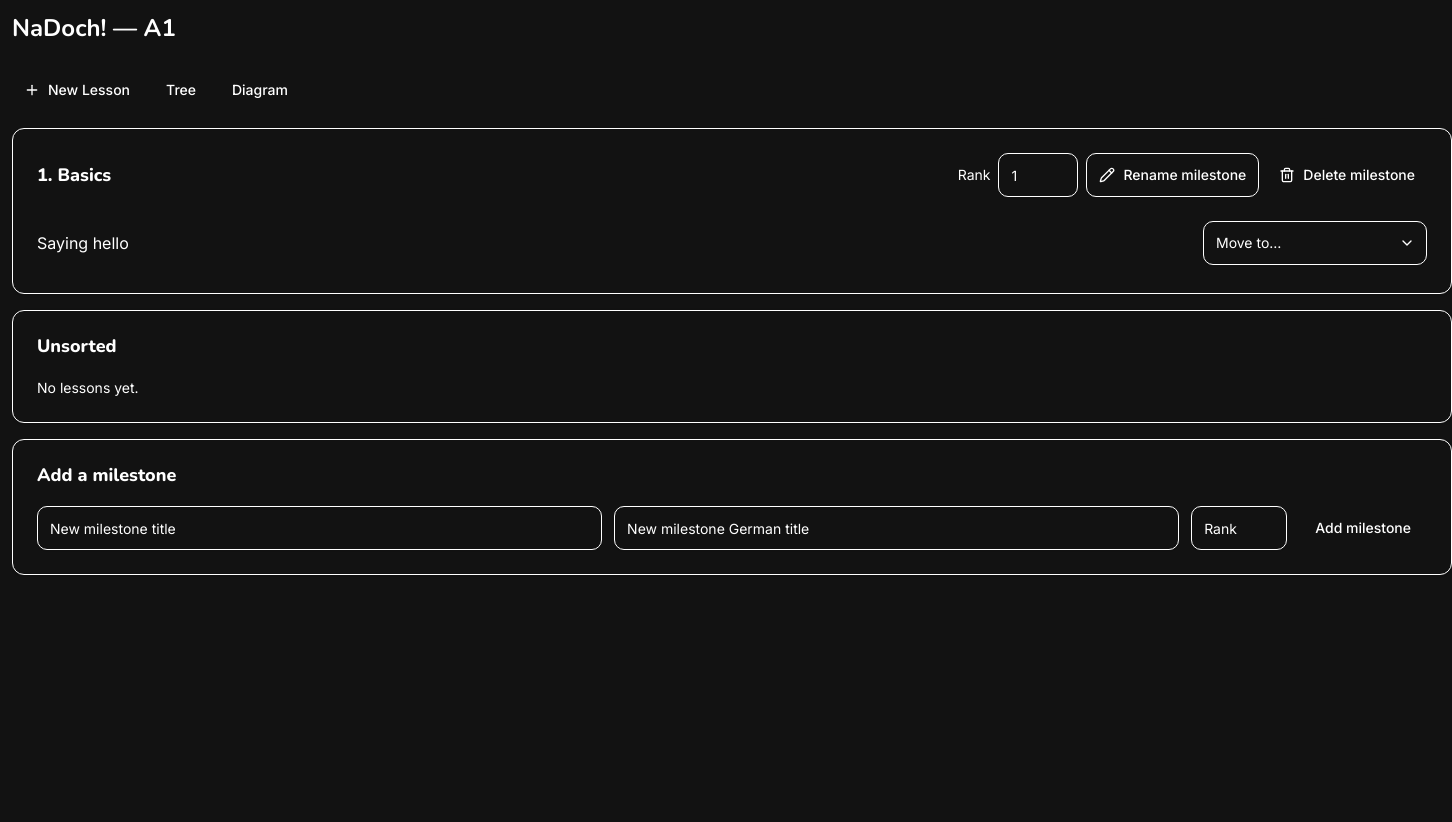
Test case: TrackLevelStructure › saves a rank change and shows a server refusal
Replace the text in the number field named "Rank of Basics" with "0". click: (1038, 175)
box: x1=998 y1=153 x2=1078 y2=197
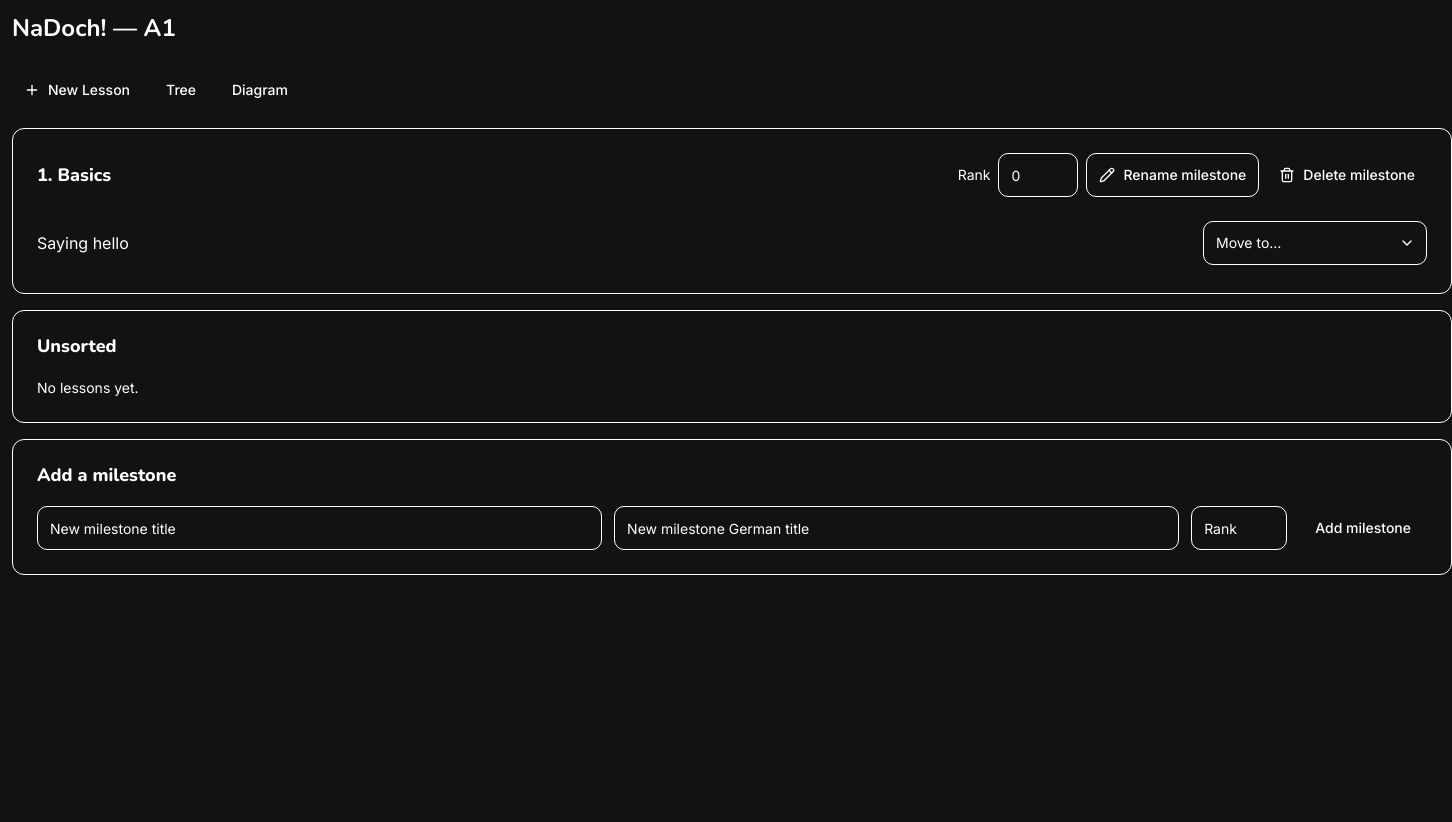
Leave the number field named "Rank of Basics", box x1=998 y1=153 x2=1078 y2=197
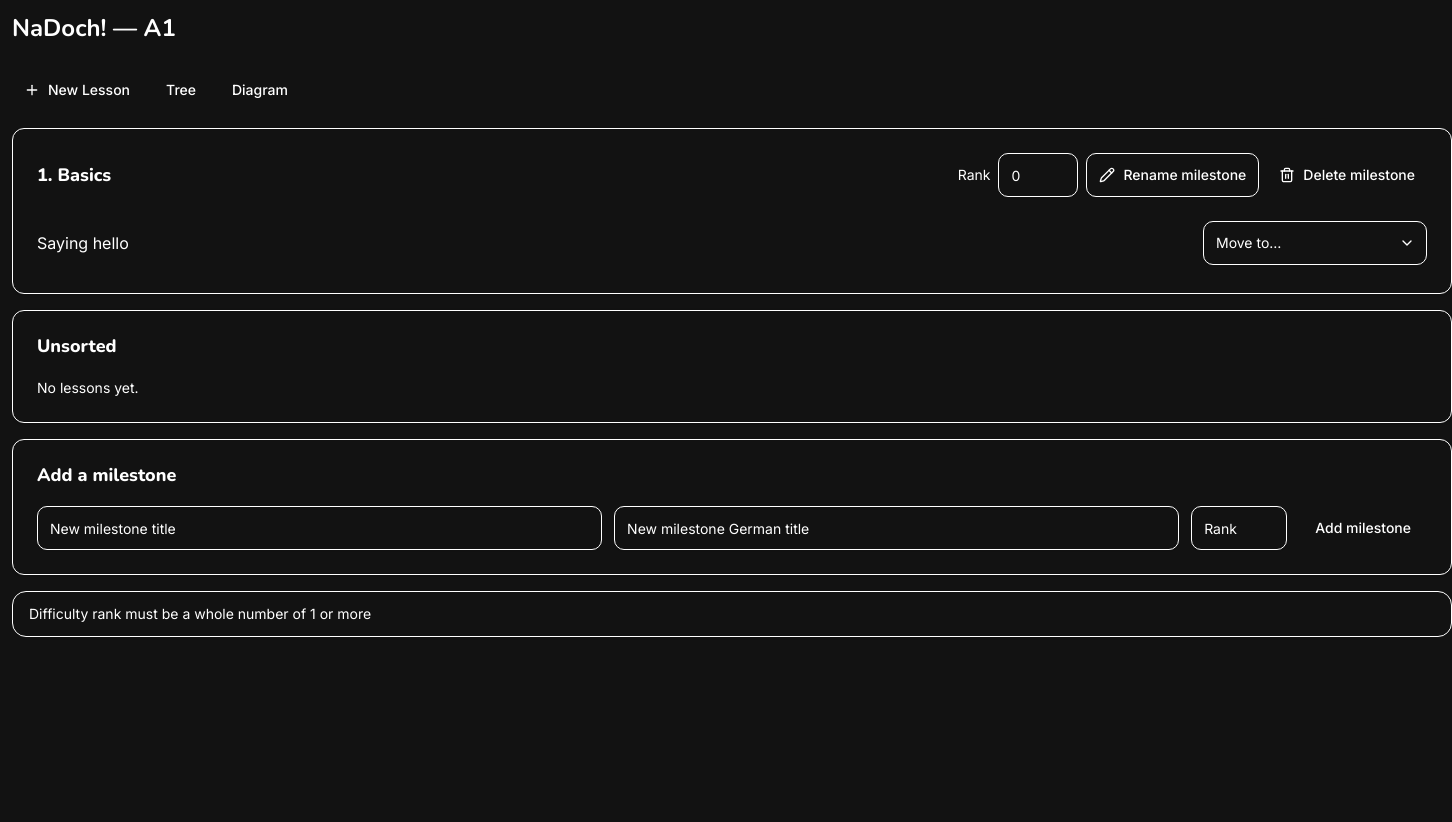
Now the message reads "Difficulty rank must be a whole number of 1 or more", box x1=29 y1=605 x2=371 y2=622
